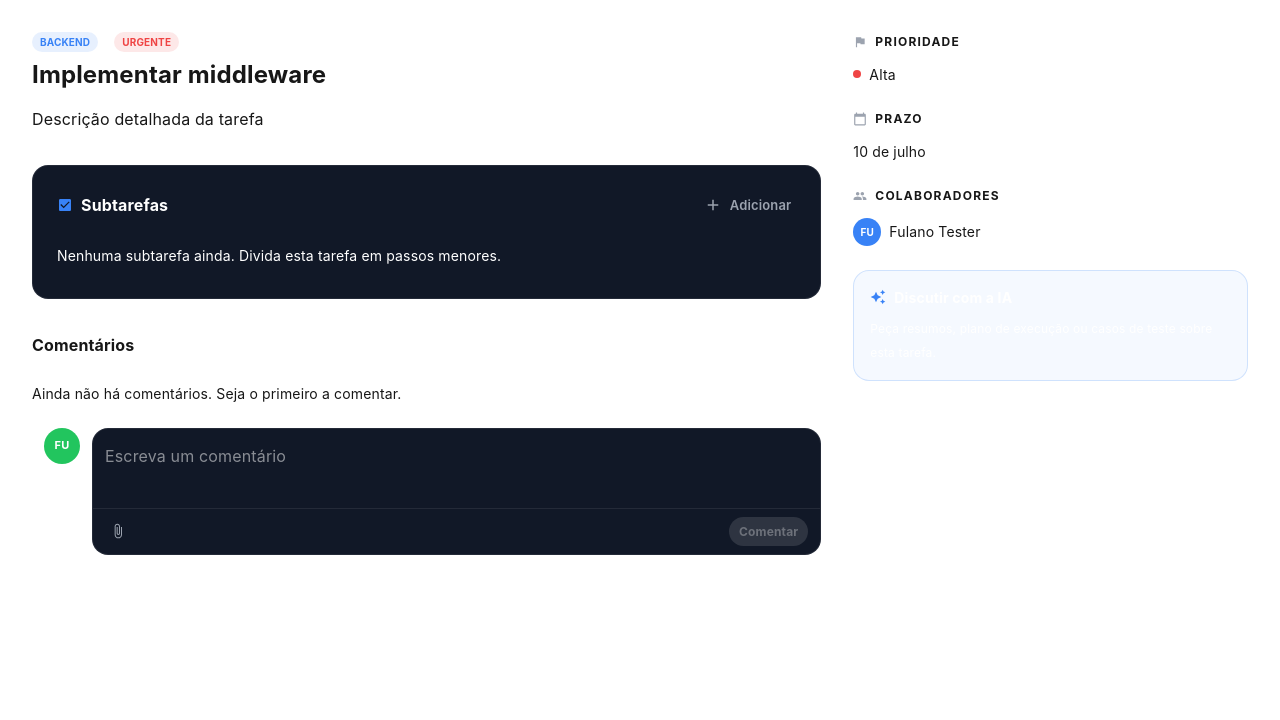
Scenario: <TaskDetail /> › o botão Comentar fica desabilitado enquanto vazio e habilita ao digitar
Expected: the button "Comentar" is disabled, [729,517,808,546]
Type "Novo comentário aqui" into the text box with placeholder "Escreva um comentário" at (457, 468), box [105,445,808,491]
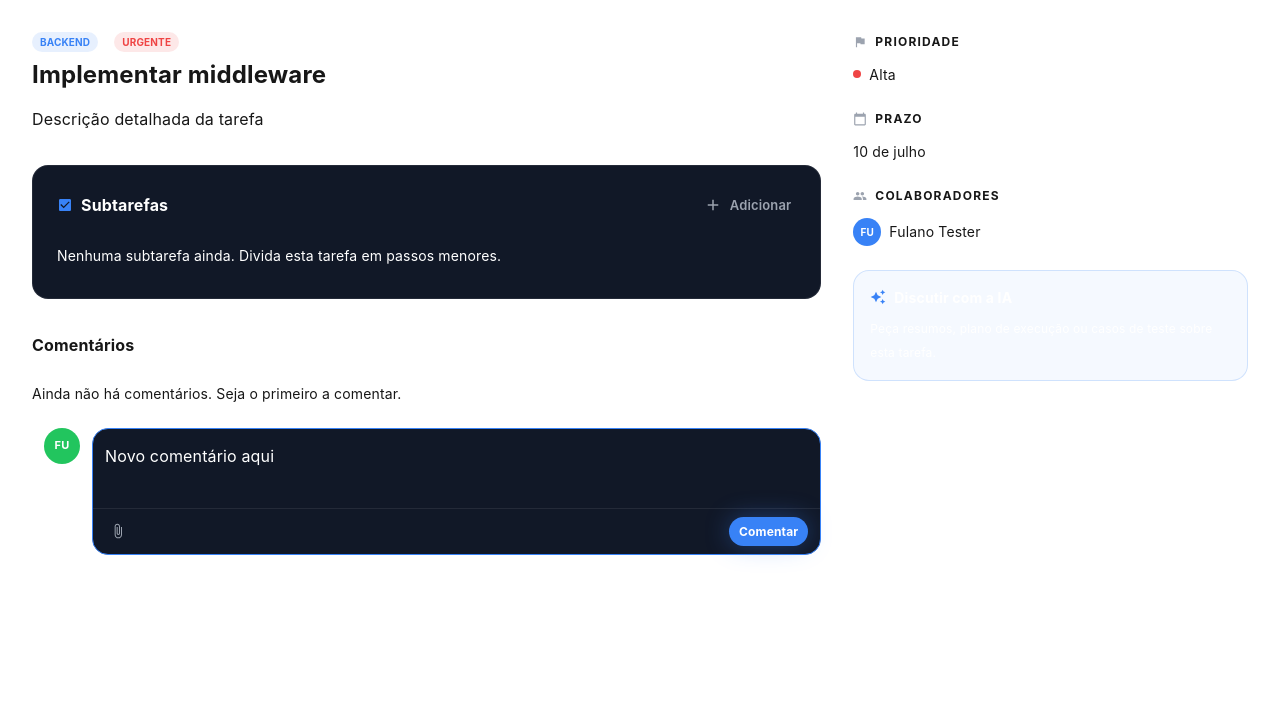
Result: the button "Comentar" is enabled at [729,517,808,546]
